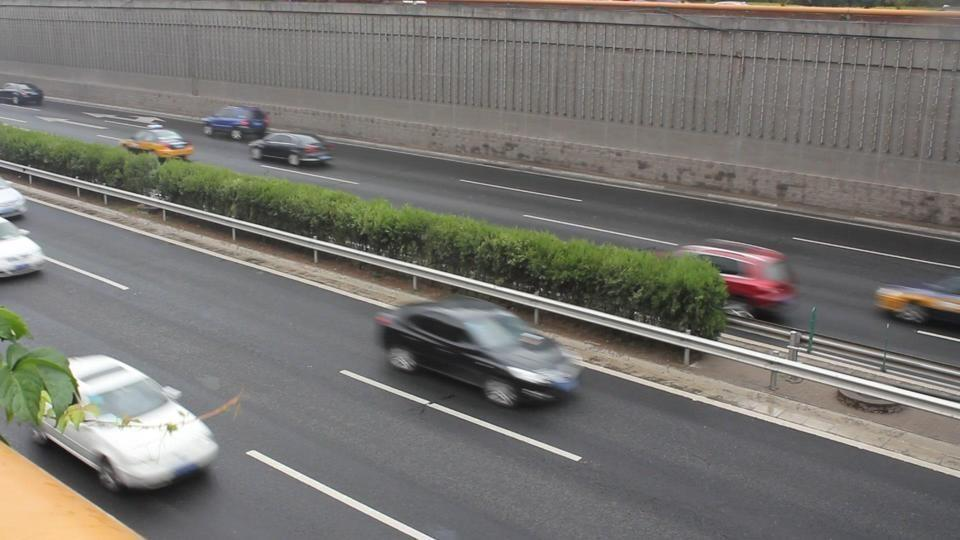car: (3, 350, 220, 495), (374, 299, 581, 409), (673, 238, 801, 320), (873, 273, 960, 328), (248, 131, 335, 168), (0, 215, 47, 279), (200, 104, 272, 142), (119, 125, 194, 161), (0, 181, 29, 219), (0, 82, 43, 107)
